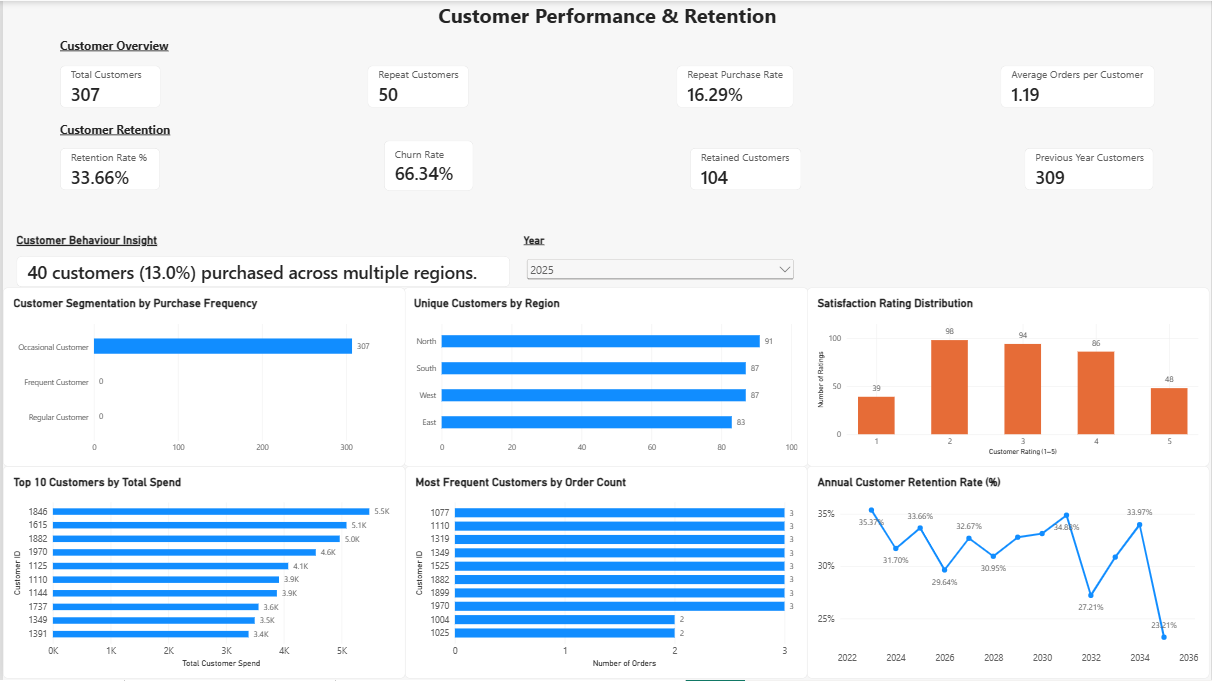

This screenshot's page, from the dashboard's own definition file:
{"tool":"powerbi","page":{"name":"Customer Analysis","canvas":[1920,1080],"ordinal":1},"visuals":[{"type":"cardVisual","title":"Total Customers","fields":{"Data":["FactSales.Total Customers"]},"box":[90,102.5,160,67.5],"z":0,"group":"g6"},{"type":"cardVisual","title":"Previous Year Customers","fields":{"Data":["CustomerSegments.Previous Year Customers KPI"]},"box":[1625,232.4,205,67.5],"z":0,"group":"g5"},{"type":"group","id":"g1","title":"Group 5","box":[0,455,1920,622.5],"z":0},{"type":"cardVisual","title":"Retained Customers","fields":{"Data":["CustomerSegments.Retained Customers KPI"]},"box":[1091.3,232.4,177.5,67],"z":1000,"group":"g5"},{"type":"textbox","box":[72.5,511.2,1847.5,57.5],"z":1000},{"type":"textbox","box":[2.5,0,1917.5,57.5],"z":2000},{"type":"cardVisual","title":"Average Orders per Customer","fields":{"Data":["FactSales.Average Orders per Customer"]},"box":[1585,102.5,245,67.5],"z":2000,"group":"g6"},{"type":"cardVisual","title":"Customer Retention Rate %","fields":{"Data":["FactSales.Customer Retention Rate KPI"]},"box":[90,232.4,159,67],"z":2000,"group":"g5"},{"type":"slicer","title":"Year","fields":{"Values":["DimDate.Year"]},"box":[830,370,435,85],"z":2000,"group":"g2"},{"type":"clusteredBarChart","title":"Unique Customers by Region","fields":{"Category":["FactSales.region"],"Y":["FactSales.Total Customers"]},"box":[636,455,644,284.7],"z":2000,"group":"g1"},{"type":"cardVisual","title":"Customer Churn Rate %","fields":{"Data":["CustomerSegments.Customer Churn Rate KPI"]},"box":[605,221.2,142.5,80],"z":3000,"group":"g5"},{"type":"cardVisual","title":"Customer Behaviour Insight","fields":{"Data":["CustomerSegments.Customer Behaviour Insight"]},"box":[22.5,370,785,85],"z":3000,"group":"g2"},{"type":"group","id":"g2","title":"Group 6","box":[22.5,370,1242.5,85],"z":3000},{"type":"cardVisual","title":"Repeat Customers","fields":{"Data":["CustomerSegments.Repeat Customers"]},"box":[579.3,102.5,161,67.5],"z":4000,"group":"g6"},{"type":"group","id":"g3","title":"Group 4","box":[90,190,1740,111.2],"z":4000},{"type":"group","id":"g4","title":"Group 2","box":[90,57.5,1740,112.5],"z":5000},{"type":"cardVisual","title":"Repeat Purchase Rate","fields":{"Data":["FactSales.Repeat Purchase Rate"]},"box":[1069.7,102.5,186,67.5],"z":5000,"group":"g6"},{"type":"clusteredColumnChart","title":"Satisfaction Rating Distribution","fields":{"Category":["FactSales.Rating Group"],"Y":["CountNonNull(FactSales.customer_rating)"]},"box":[1280,455,640,284.7],"z":5000,"group":"g1"},{"type":"clusteredBarChart","title":"Top 10 Customers by Total Spend","fields":{"Category":["FactSales.customer_id"],"Y":["FactSales.Customer Total Spend"]},"box":[0,739.7,640,337.8],"z":6000,"group":"g1"},{"type":"clusteredBarChart","title":"Most Frequent Customers by Order Count","fields":{"Category":["FactSales.customer_id"],"Y":["FactSales.Orders Per Customer"]},"box":[640,739.7,640,337.8],"z":8000,"group":"g1"},{"type":"clusteredBarChart","title":"Customer Segmentation by Purchase Frequency","fields":{"Category":["CustomerSegments.Segment"],"Y":["CustomerSegments.Dynamic Customer Segment Count"]},"box":[0,455,640,284.7],"z":9000,"group":"g1"},{"type":"lineChart","title":"Annual Customer Retention Rate (%)","fields":{"Category":["DimDate.Year"],"Y":["FactSales.Customer Retention Rate"]},"box":[1280,739.7,640,337.8],"z":10000,"group":"g1"},{"type":"textbox","box":[90,57.5,205,45],"z":10003,"group":"g4"},{"type":"textbox","box":[90,190,225,42.5],"z":10006,"group":"g3"},{"type":"group","id":"g5","title":"Group 3","box":[90,221.2,1740,80],"z":12004,"group":"g3"},{"type":"group","id":"g6","title":"Group 1","box":[90,102.5,1740,67.5],"z":12006,"group":"g4"}]}

Visuals, with their boxes in screenshot pixels (x1, y1, x2, y2), scaled from the page's 1920x1080 canvas onto the 1212x681 screenshot:
"Total Customers" cardVisual: [left=57, top=65, right=158, bottom=107]
"Previous Year Customers" cardVisual: [left=1026, top=147, right=1155, bottom=189]
"Group 5" group: [left=0, top=287, right=1211, bottom=679]
"Retained Customers" cardVisual: [left=689, top=147, right=801, bottom=189]
textbox: [left=46, top=322, right=1211, bottom=359]
textbox: [left=2, top=0, right=1211, bottom=36]
"Average Orders per Customer" cardVisual: [left=1001, top=65, right=1155, bottom=107]
"Customer Retention Rate %" cardVisual: [left=57, top=147, right=157, bottom=189]
"Year" slicer: [left=524, top=233, right=799, bottom=287]
"Unique Customers by Region" clusteredBarChart: [left=401, top=287, right=808, bottom=466]
"Customer Churn Rate %" cardVisual: [left=382, top=139, right=472, bottom=190]
"Customer Behaviour Insight" cardVisual: [left=14, top=233, right=510, bottom=287]
"Group 6" group: [left=14, top=233, right=799, bottom=287]
"Repeat Customers" cardVisual: [left=366, top=65, right=467, bottom=107]
"Group 4" group: [left=57, top=120, right=1155, bottom=190]
"Group 2" group: [left=57, top=36, right=1155, bottom=107]
"Repeat Purchase Rate" cardVisual: [left=675, top=65, right=793, bottom=107]
"Satisfaction Rating Distribution" clusteredColumnChart: [left=808, top=287, right=1211, bottom=466]
"Top 10 Customers by Total Spend" clusteredBarChart: [left=0, top=466, right=404, bottom=679]
"Most Frequent Customers by Order Count" clusteredBarChart: [left=404, top=466, right=808, bottom=679]
"Customer Segmentation by Purchase Frequency" clusteredBarChart: [left=0, top=287, right=404, bottom=466]
"Annual Customer Retention Rate (%)" lineChart: [left=808, top=466, right=1211, bottom=679]
textbox: [left=57, top=36, right=186, bottom=65]
textbox: [left=57, top=120, right=199, bottom=147]
"Group 3" group: [left=57, top=139, right=1155, bottom=190]
"Group 1" group: [left=57, top=65, right=1155, bottom=107]
